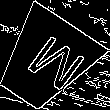M_SW: (11, 27, 81, 95)
